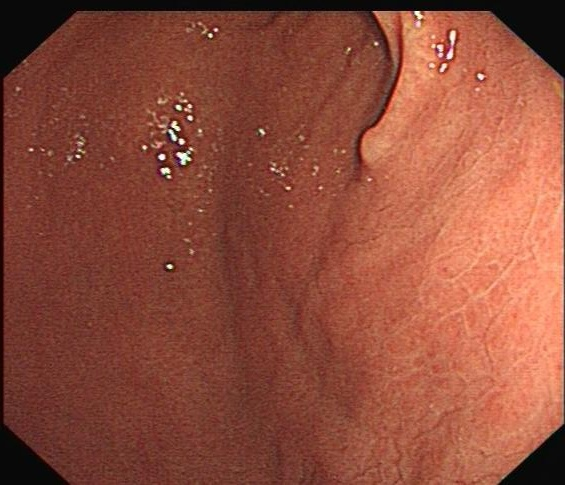Polyp: (338, 11, 449, 189)
